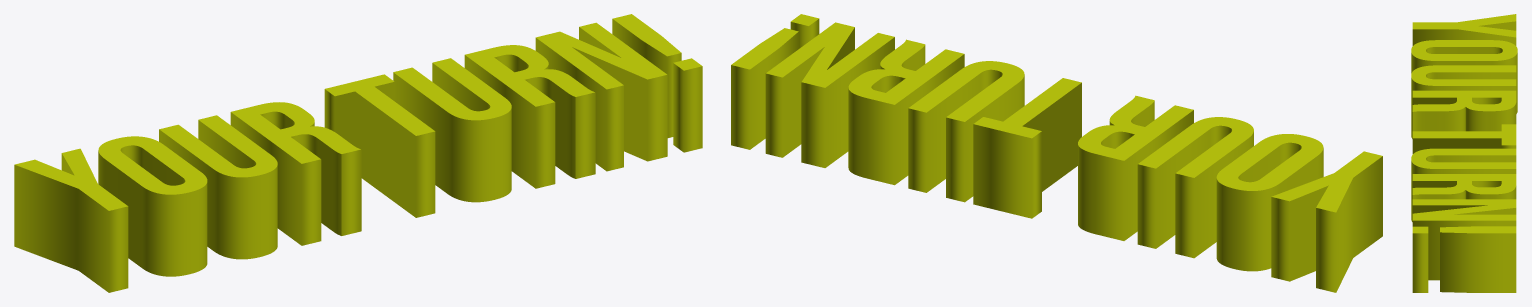
Rendered from text_yourturn.fbx.
3 views of the same model, side by side, from view 1: azimuth 30°, elevation 25°; view 2: azimuth 150°, elevation 25°; view 3: azimuth 270°, elevation 25° (orthographic). The views are drawn at different scales.
Parts seen in each view (by area): view 1: Text; view 2: Text; view 3: Text.
Part boxes in pixels (box(x1,y1,x2,y2)): Text: box(14, 14, 702, 292); Text: box(731, 14, 1382, 292); Text: box(1411, 14, 1517, 292).
Bounding box in the file's own units: 315 × 40 × 64.75.
